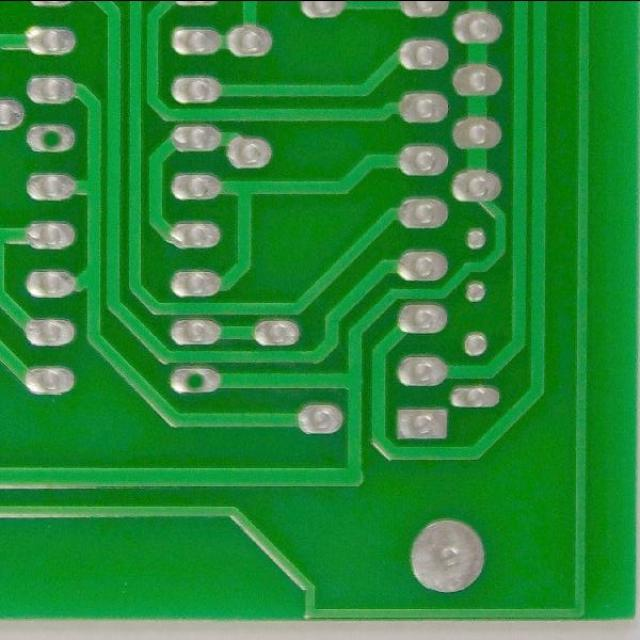Missing_Hole: (22, 119, 79, 157), (165, 364, 225, 398)
